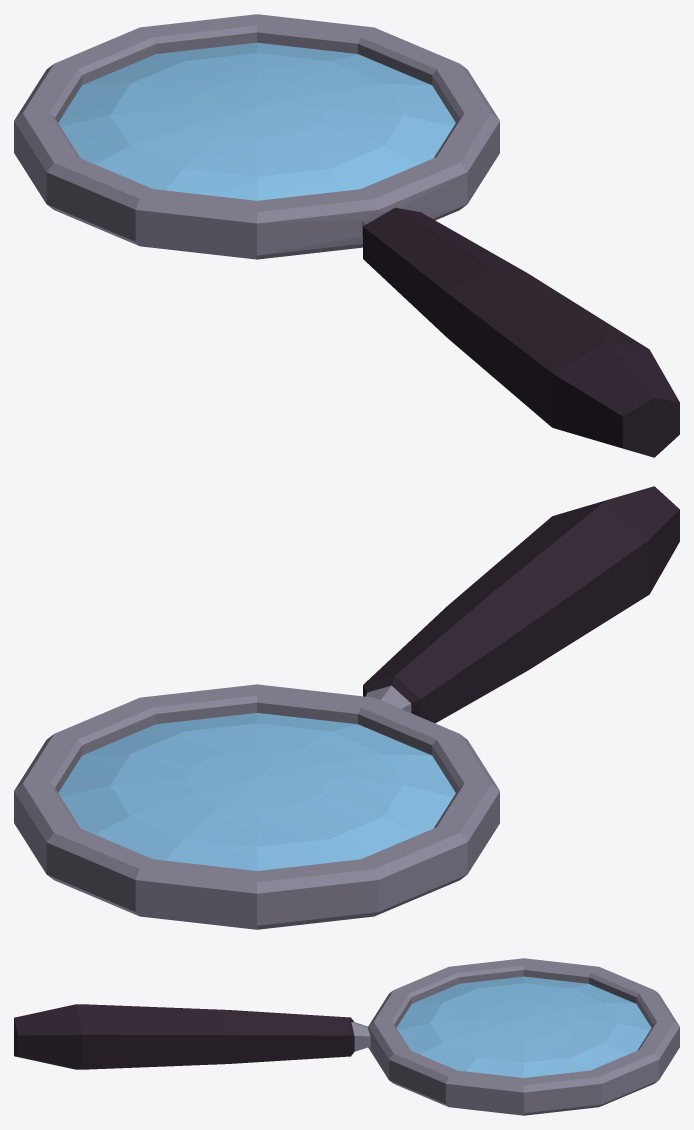
The model's file is MagnifyingGlass.fbx.
3 renders of one model, top to bottom at view 1: azimuth 30°, elevation 25°; view 2: azimuth 150°, elevation 25°; view 3: azimuth 270°, elevation 25°, orthographic. The views are drawn at different scales.
Visible parts, largest first — view 1: MagnifyingGlass; view 2: MagnifyingGlass; view 3: MagnifyingGlass.
Part boxes in pixels (x1,y1,x2,y2): MagnifyingGlass: (14,14,679,457); MagnifyingGlass: (14,486,679,929); MagnifyingGlass: (14,958,679,1115).
Size of the model in its own units: 45.1 by 10.44 by 96.29.
